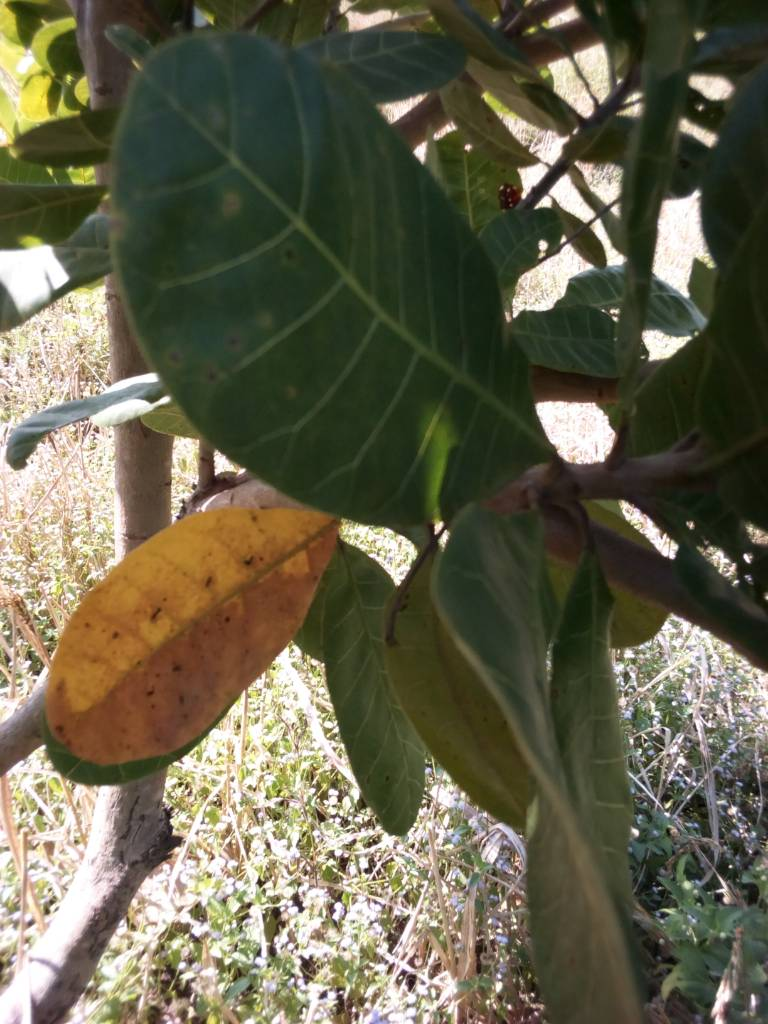Pestalotiose: (121, 67, 518, 502)
